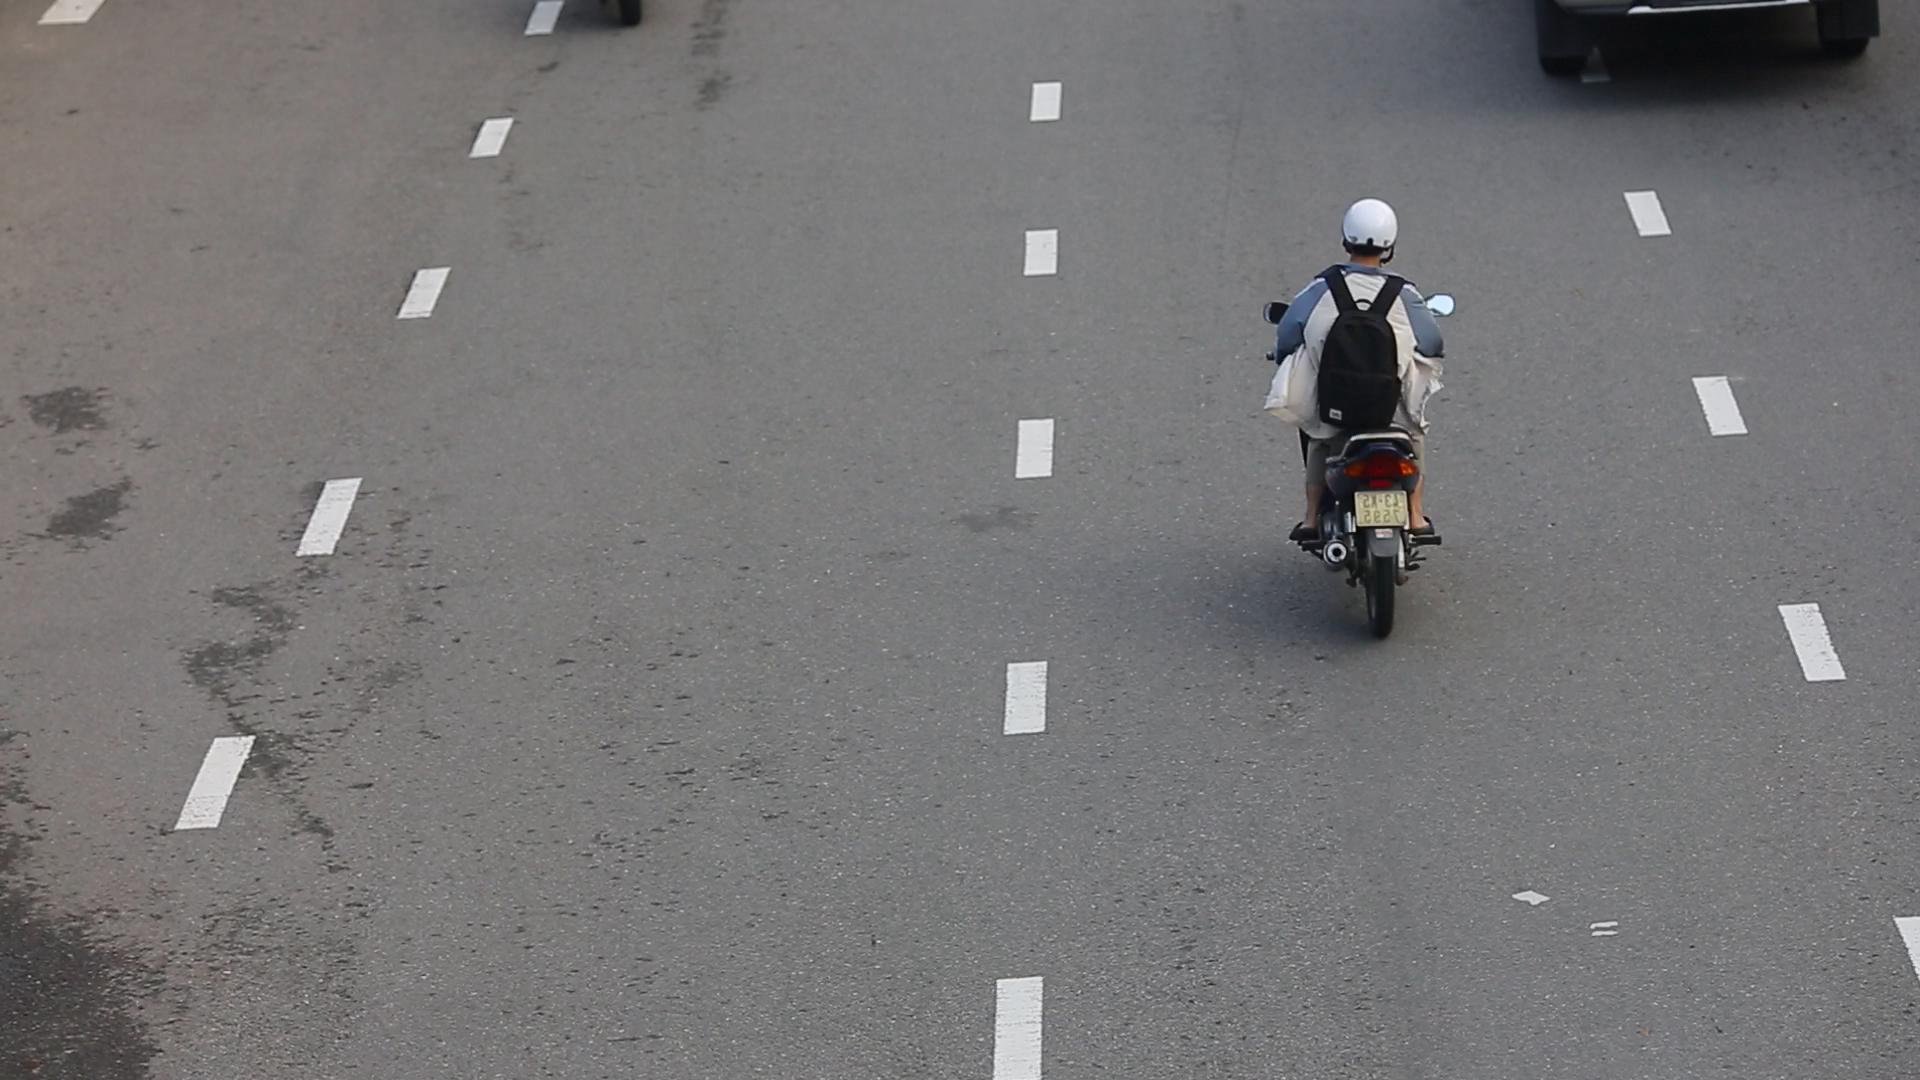motobike: (1237, 195, 1477, 629)
